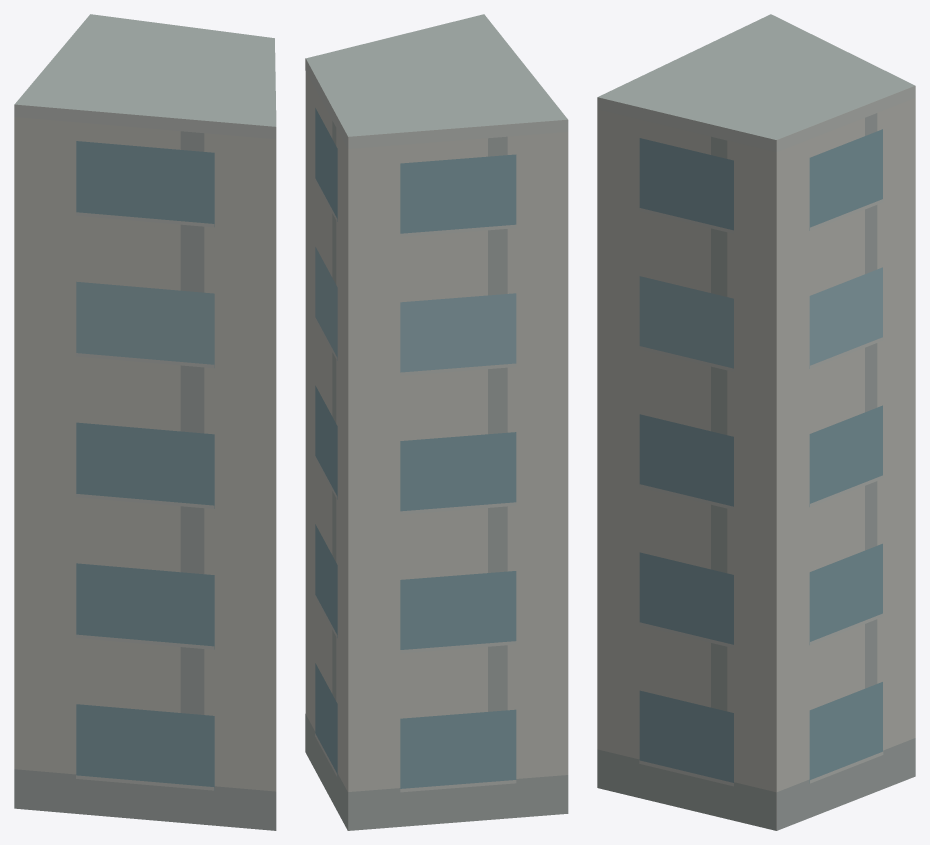
Rendered from survey-upis-33022740.glb.
3 renders of one model, left to right at view 1: azimuth 30°, elevation 25°; view 2: azimuth 150°, elevation 25°; view 3: azimuth 270°, elevation 25°, orthographic.
Visible parts, largest first — view 1: survey-upis-33022740.tmp; view 2: survey-upis-33022740.tmp; view 3: survey-upis-33022740.tmp.
Boxes of the visible parts, x1,y1,x2,y2 form: survey-upis-33022740.tmp: (14,14,276,830); survey-upis-33022740.tmp: (305,14,568,830); survey-upis-33022740.tmp: (597,14,915,830).
Bounding box in the file's own units: 5.37 × 13.7 × 5.73.
